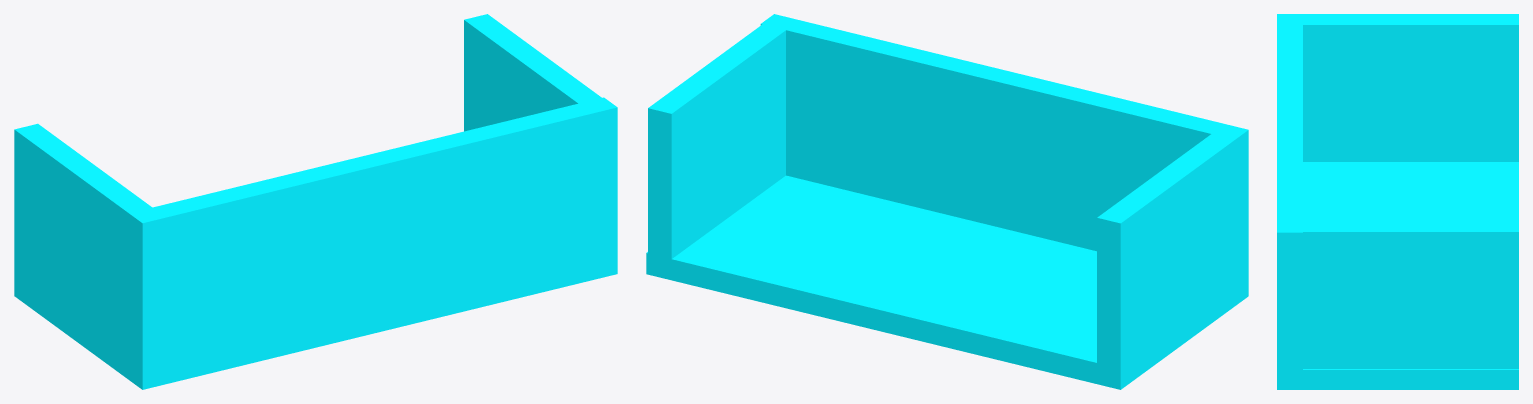
File: SM_Bld_Balcony_02_Collision.fbx
3 views of the same model, side by side, from view 1: azimuth 30°, elevation 25°; view 2: azimuth 150°, elevation 25°; view 3: azimuth 270°, elevation 25° (orthographic). The views are drawn at different scales.
Parts seen in each view (by area): view 1: SM_Bld_Balcony_02_Collision; view 2: SM_Bld_Balcony_02_Collision; view 3: SM_Bld_Balcony_02_Collision.
Boxes of the visible parts, <box> form: SM_Bld_Balcony_02_Collision: <box>14,14,617,389</box>; SM_Bld_Balcony_02_Collision: <box>646,14,1248,389</box>; SM_Bld_Balcony_02_Collision: <box>1277,14,1518,389</box>.
Bounding box in the file's own units: 331 × 111 × 155.
